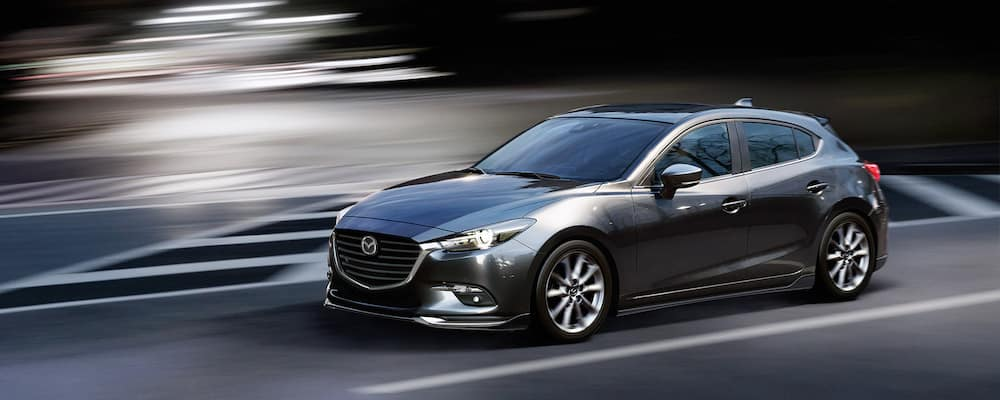Mazda3 Hatchback: (318, 95, 893, 348)
